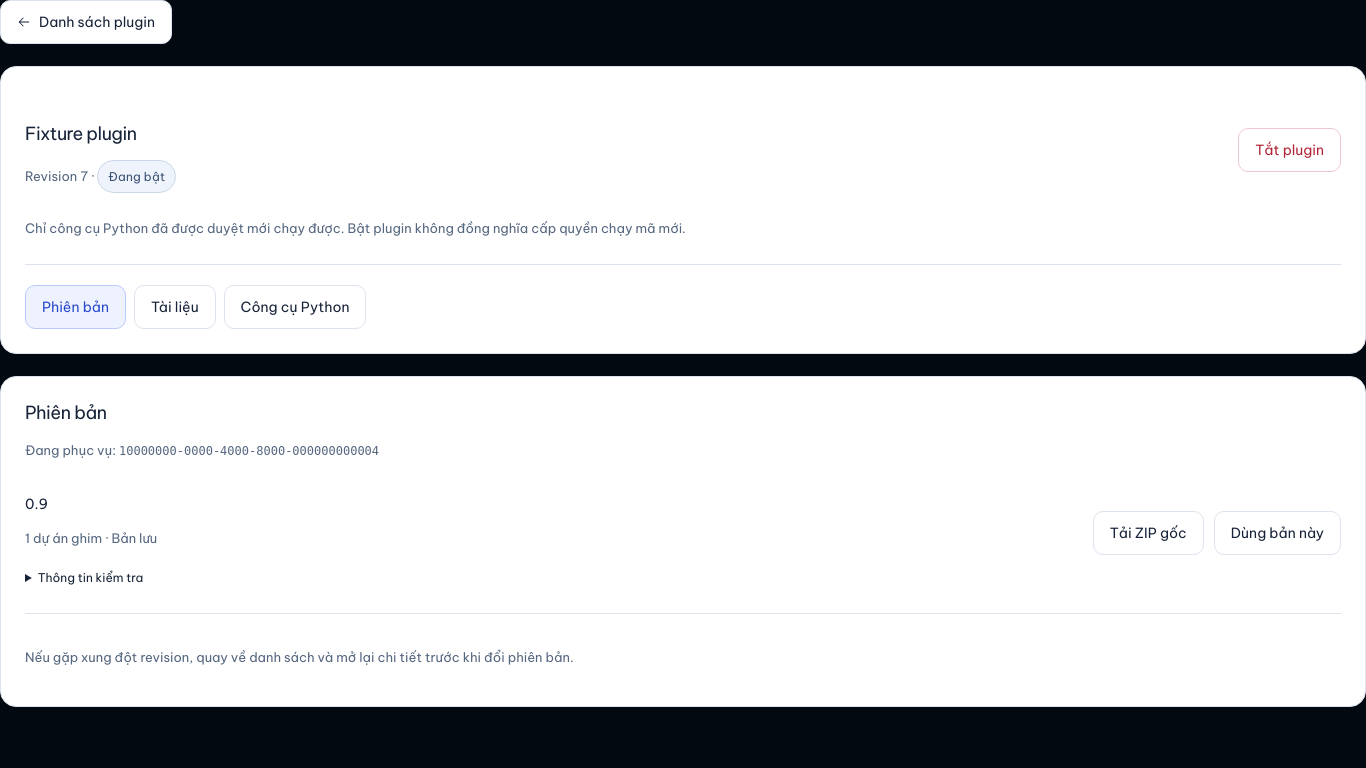
Test case: admin boundaries and real API mappings › keeps conflict error visible and does not claim a successful version switch
Click the button "Dùng bản này": x=1277, y=533 [1214,511,1341,555]
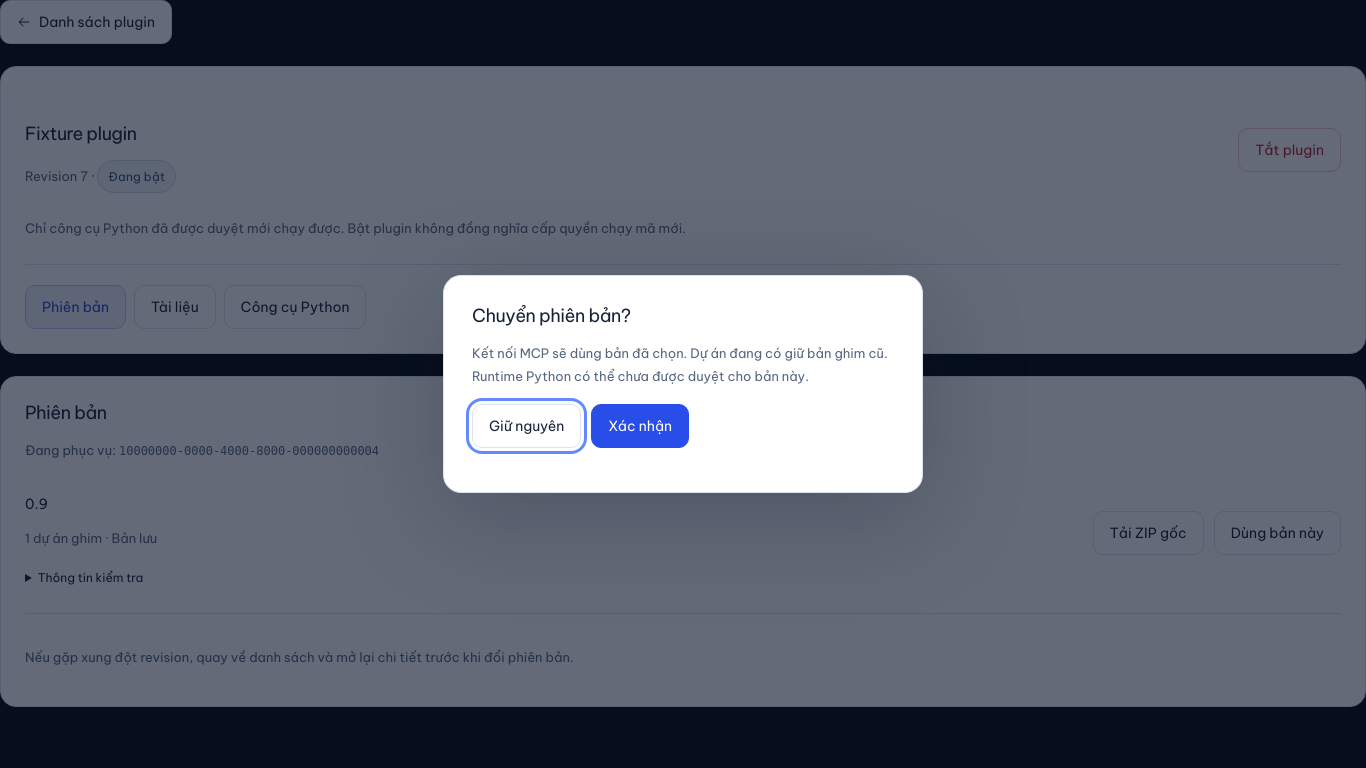
Click the button "Xác nhận": x=640, y=426 [591,404,689,448]
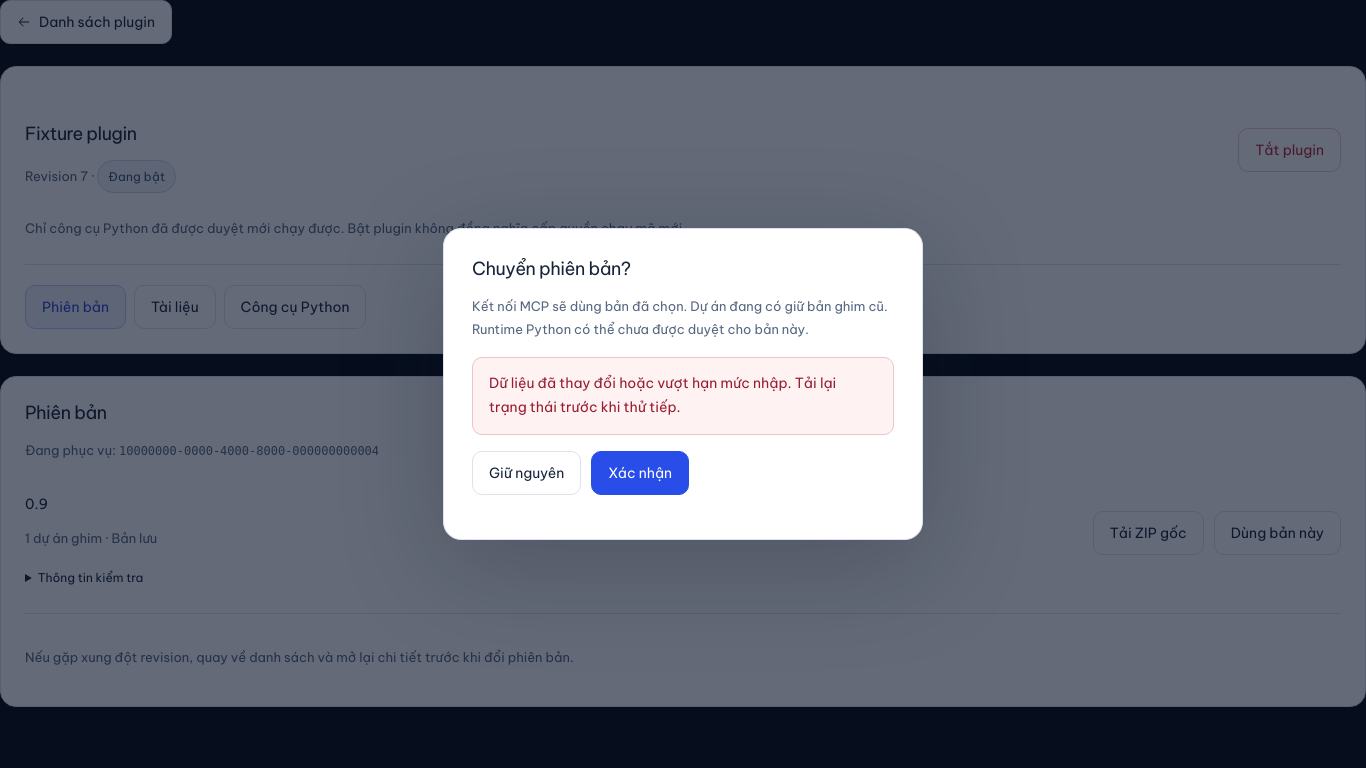
expect the text "Revision 7 · Đang bật" is shown: met, box [25,160,176,193]
expect the message shows "Dữ liệu đã thay đổi": met, box [489,374,836,416]
